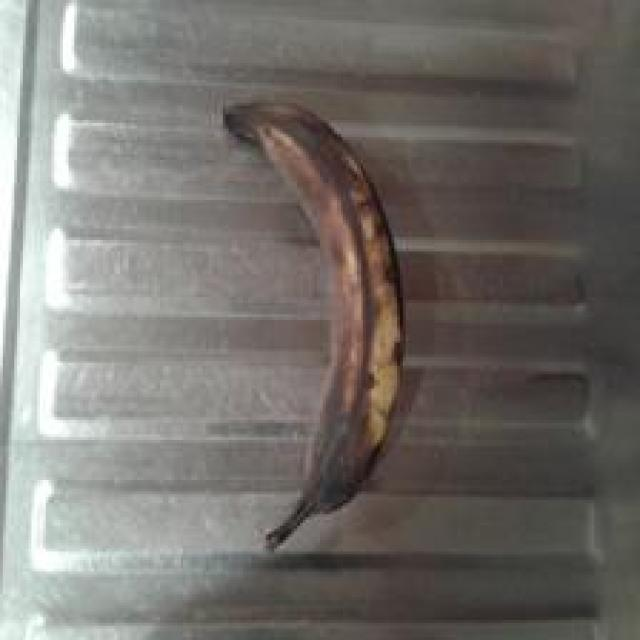Rotten_Banana: (202, 59, 432, 568)
